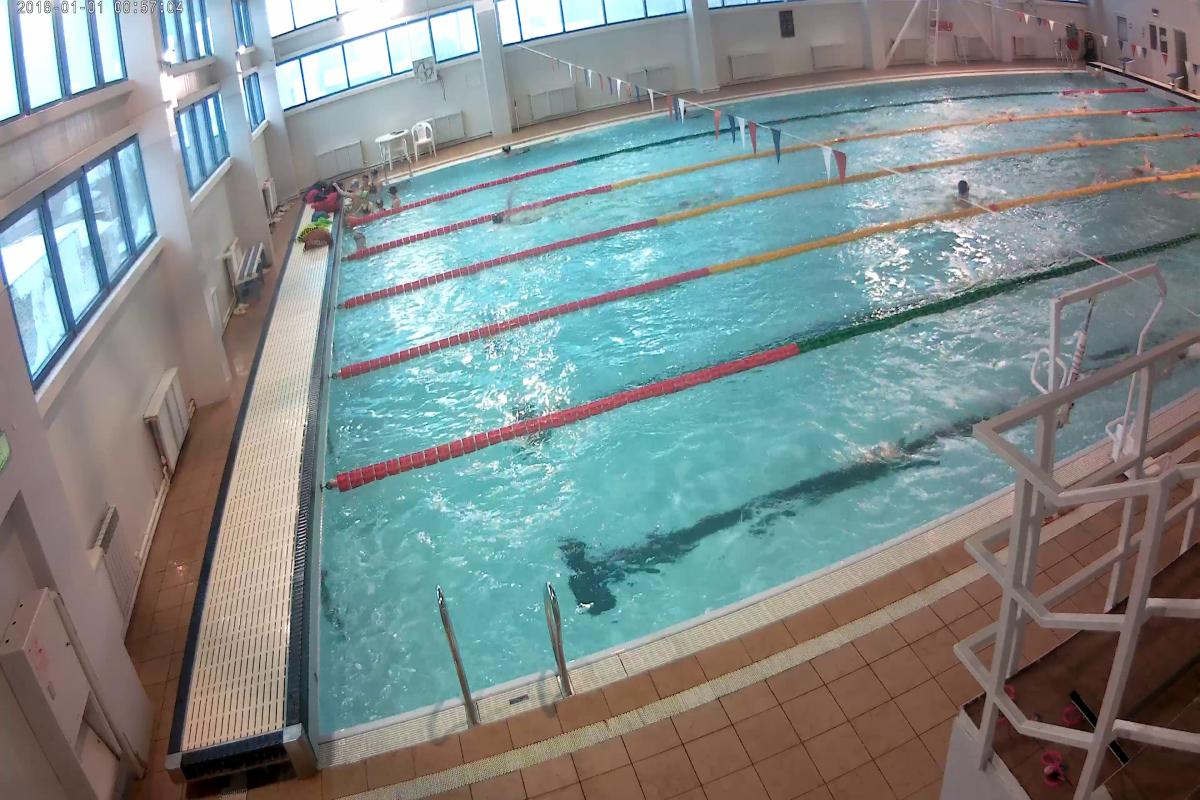swimmer: (948, 177, 979, 212), (486, 211, 527, 232), (1126, 153, 1164, 174), (348, 231, 376, 251)
